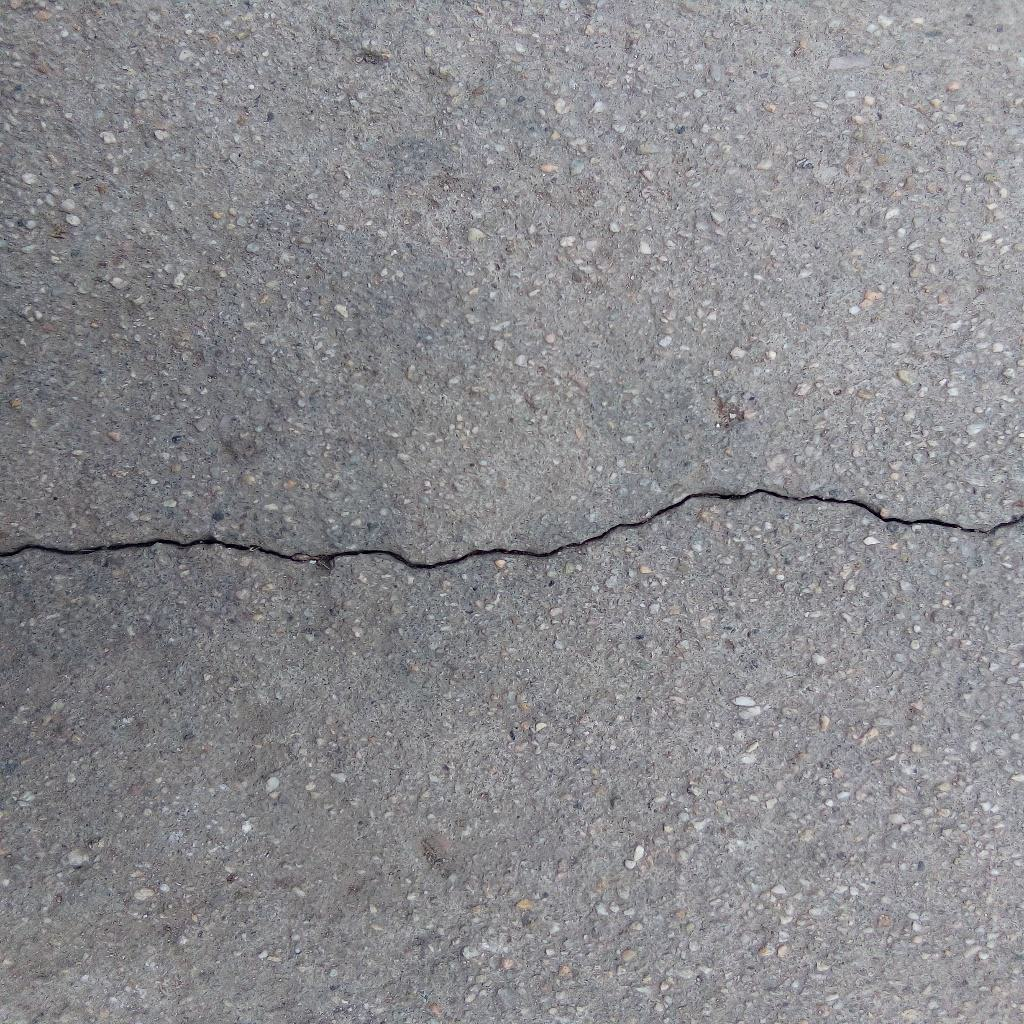Crack: (1, 485, 1024, 572)
